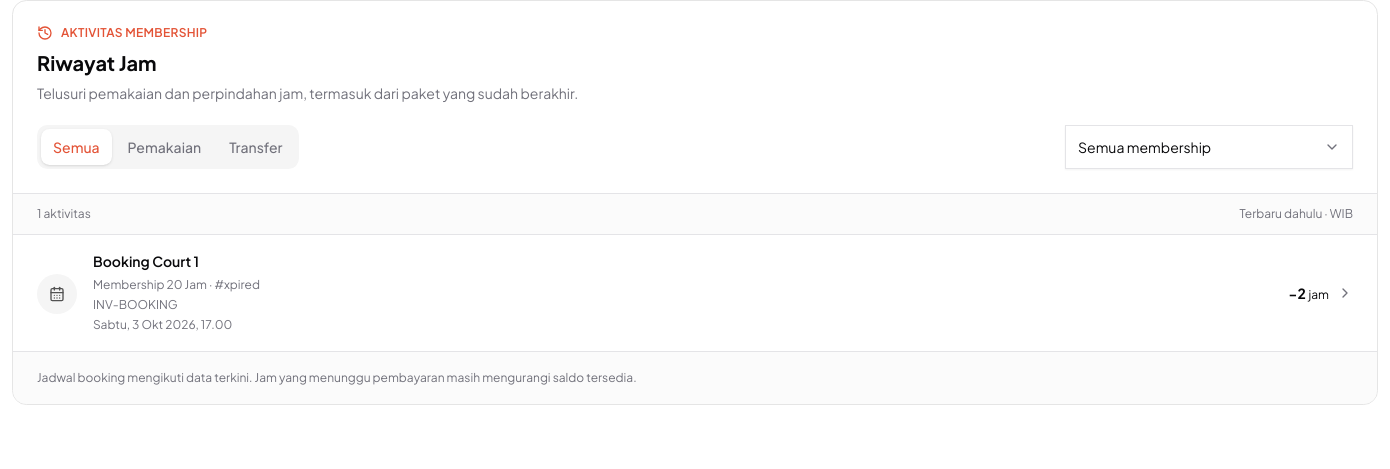
Scenario: membership hour history › shows an empty state when no activity matches
Click the button "Transfer". click: (256, 147)
box: 217,129 -> 294,165
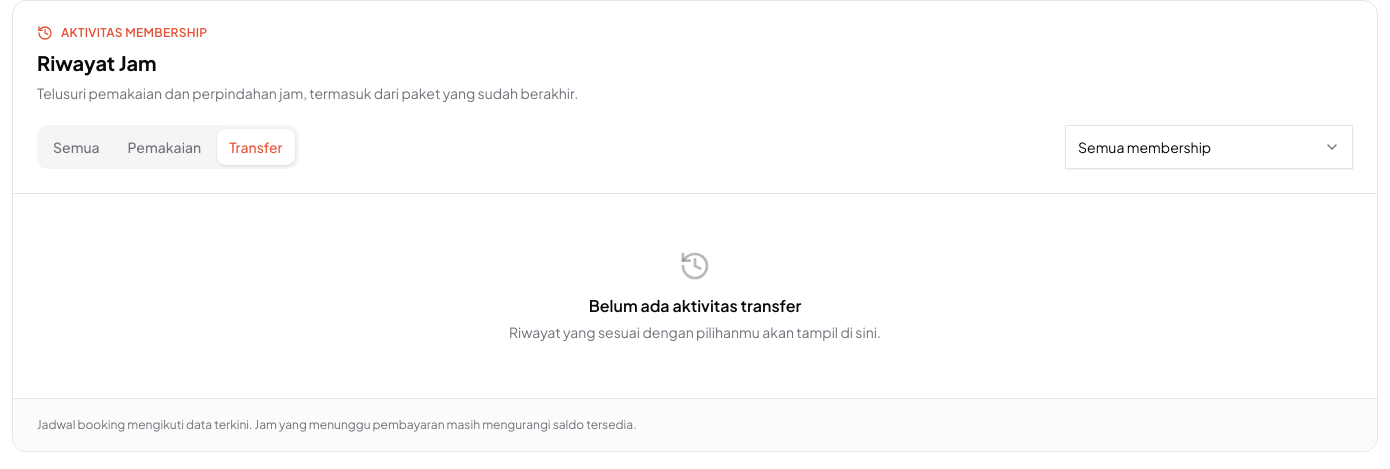
Expected: the message shows "Belum ada aktivitas transfer", 509,250 -> 881,341
